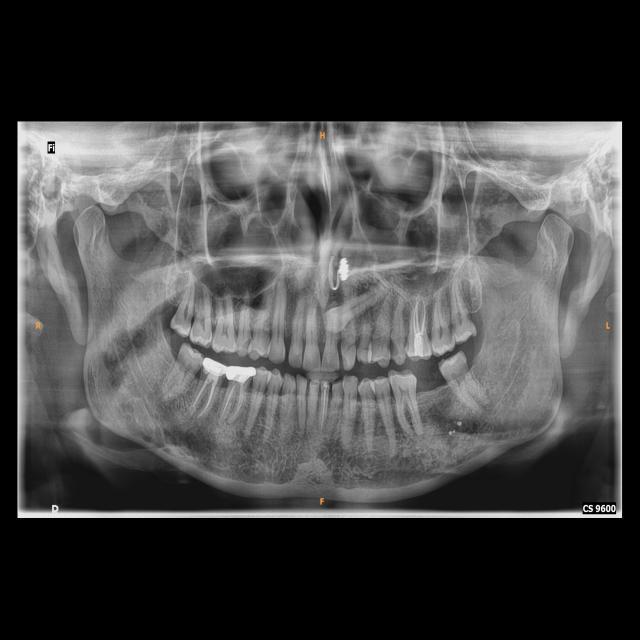dentin-curugu: (391, 338, 399, 358)
kanal-tedavisi: (193, 372, 219, 417), (220, 379, 246, 420), (407, 294, 430, 336), (319, 386, 327, 424)
kaplama: (226, 361, 257, 388), (203, 354, 228, 379)
